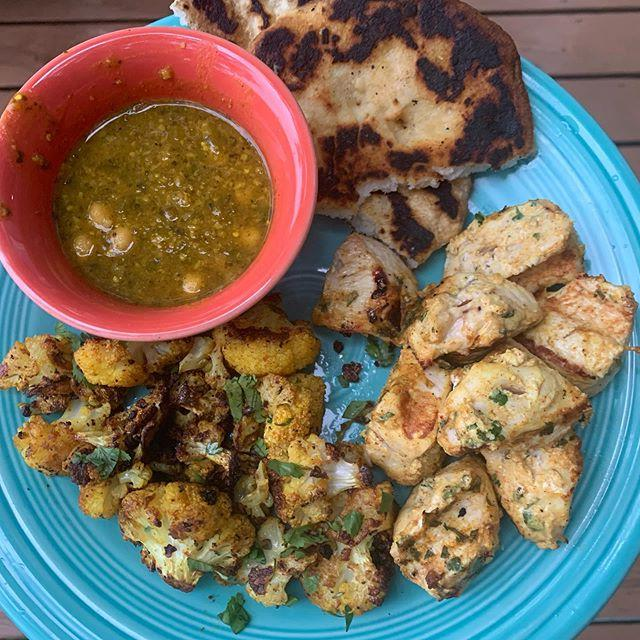Chole: (38, 88, 297, 323)
